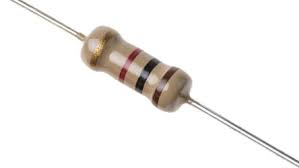resistor: (54, 21, 206, 125)
